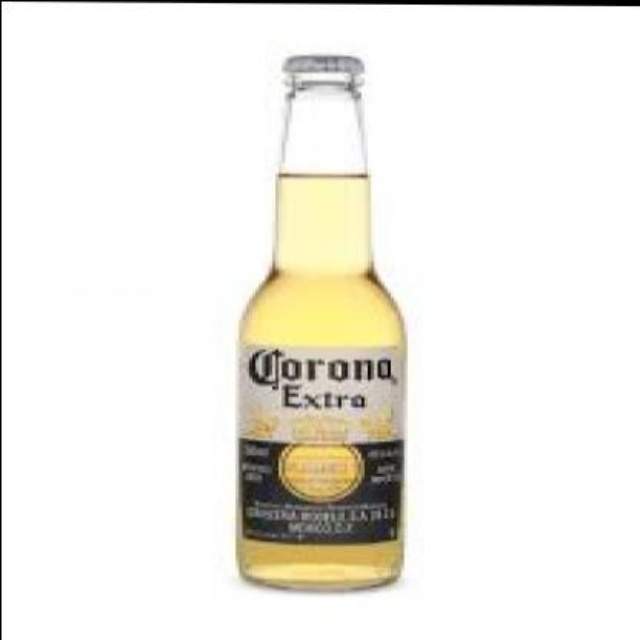trash: (238, 55, 405, 588)
